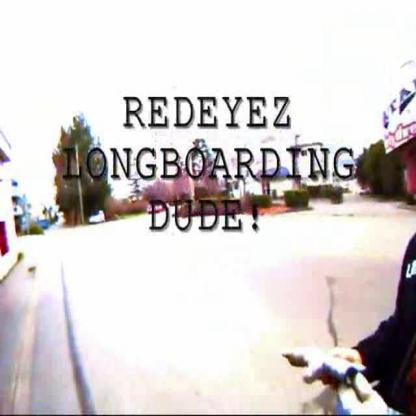other: (47, 239, 286, 394)
